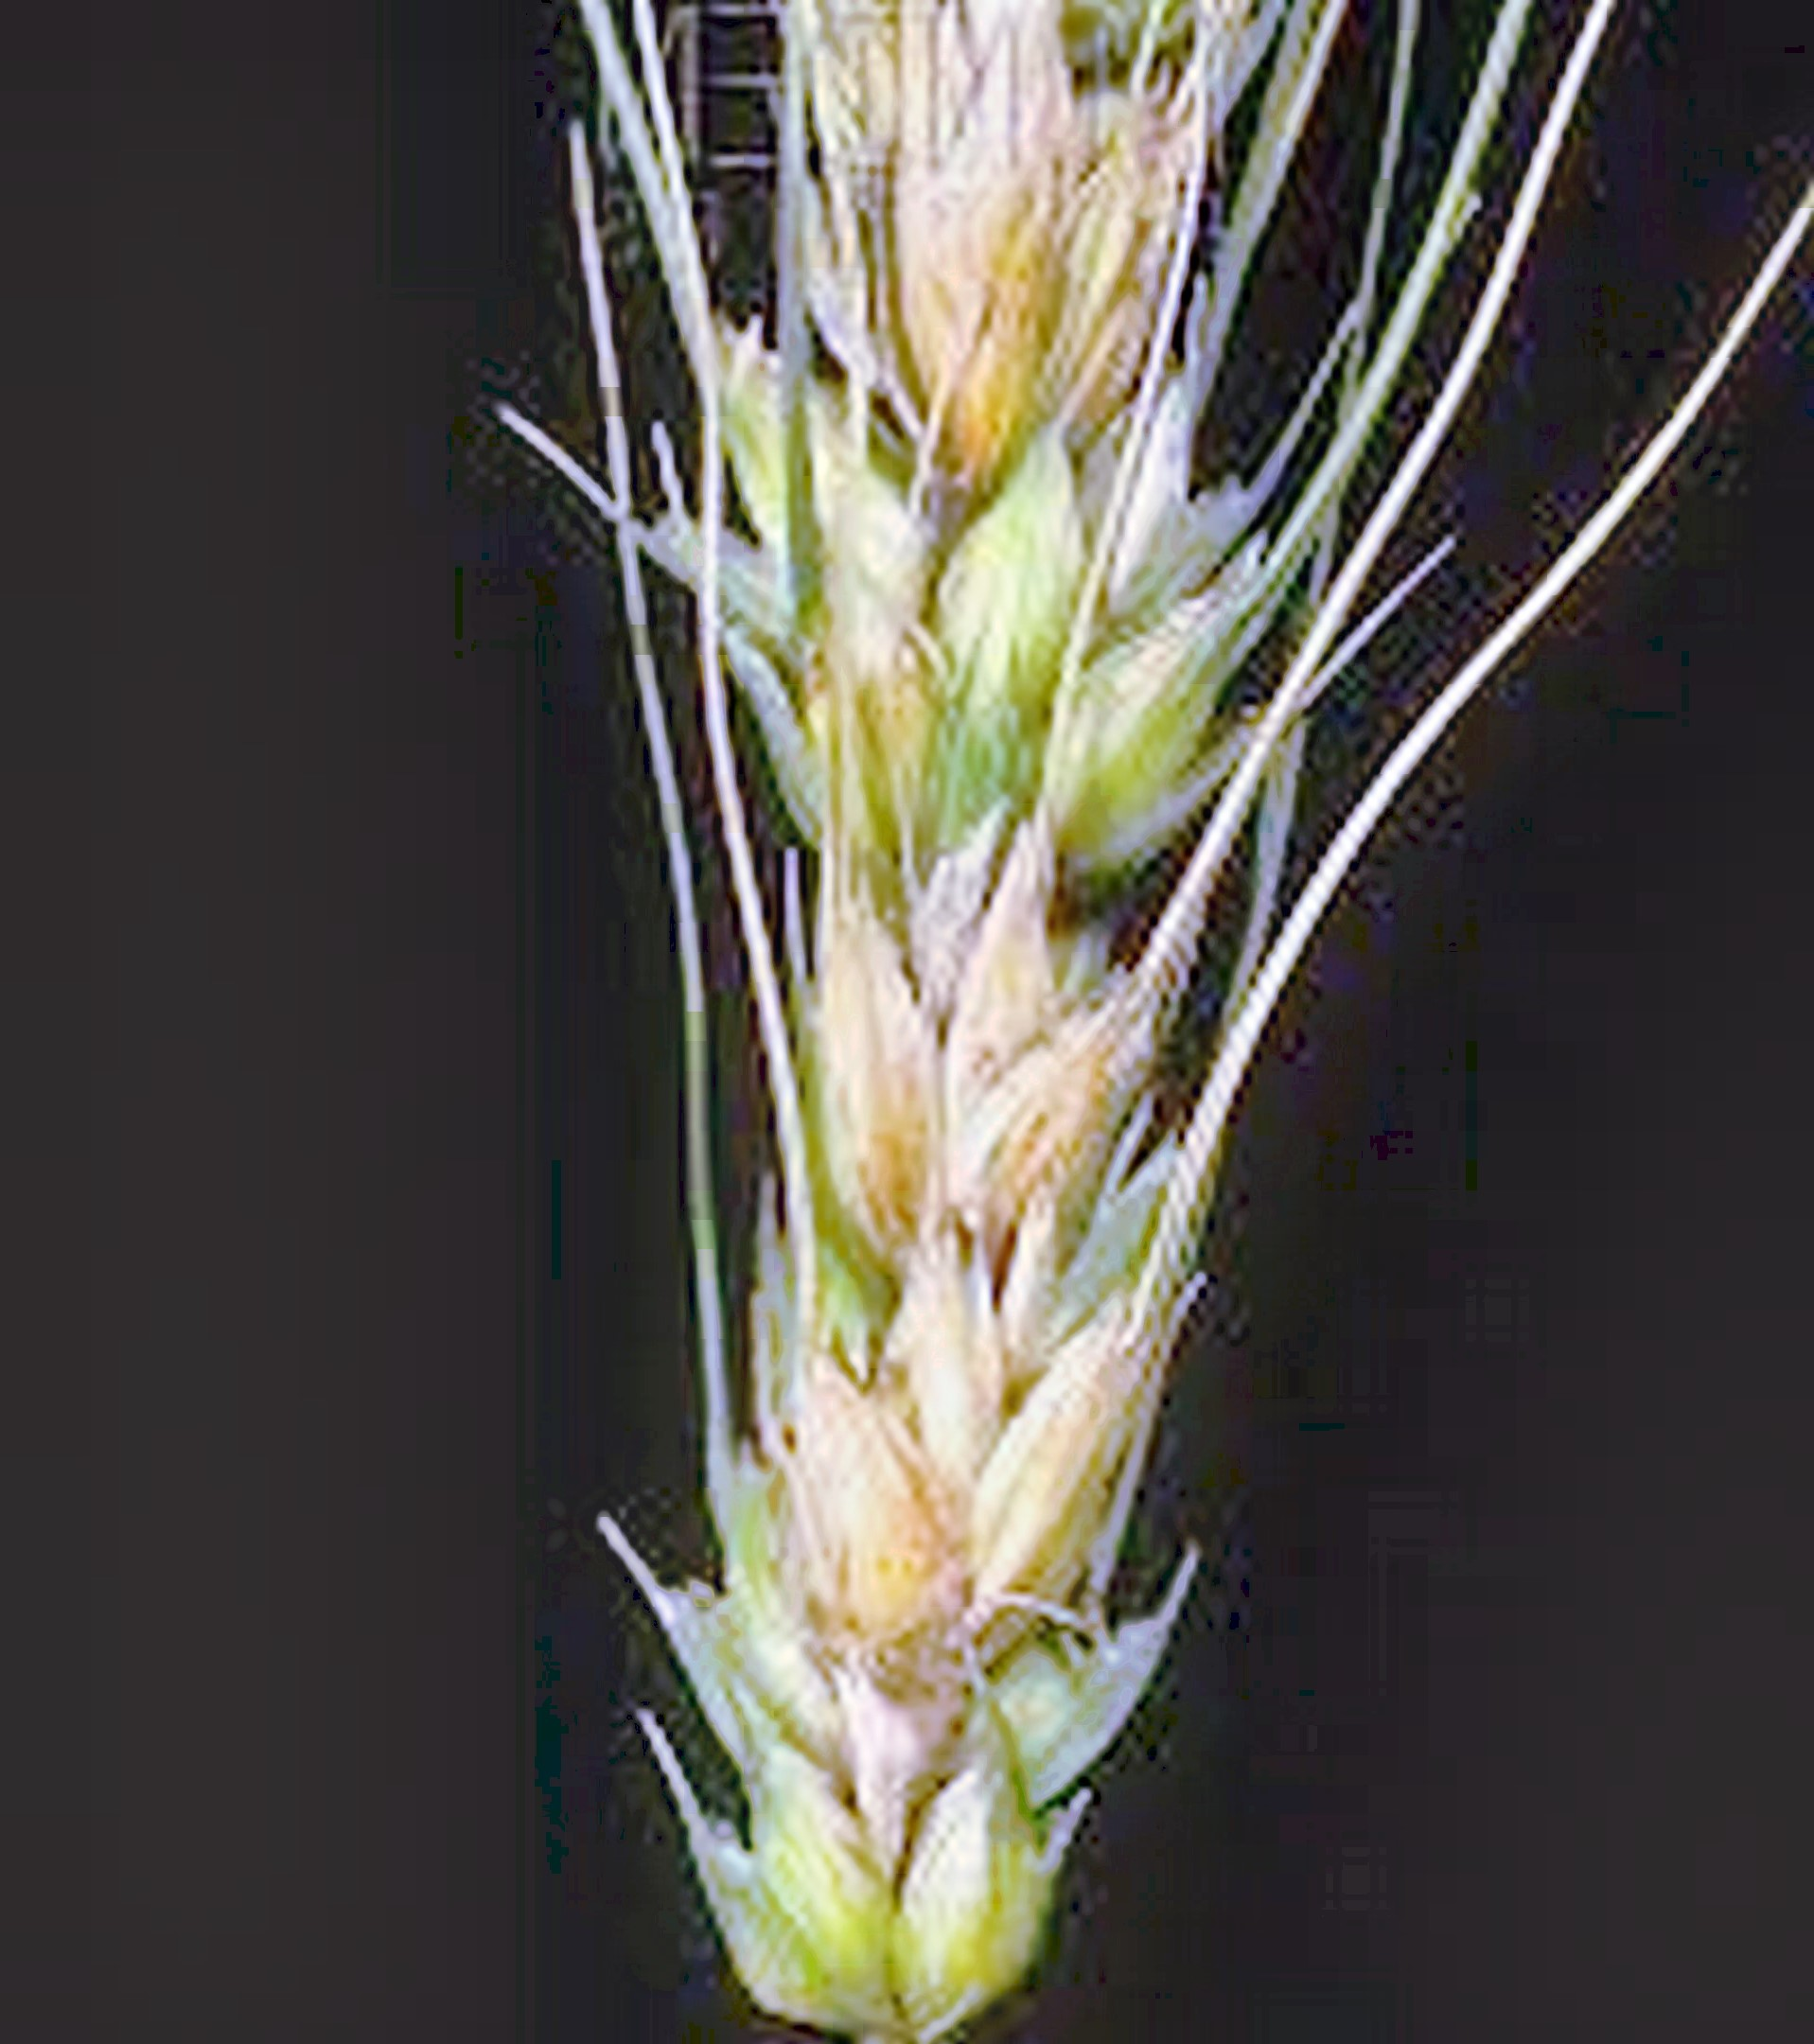Wheat scab: (646, 2, 1233, 2016)
